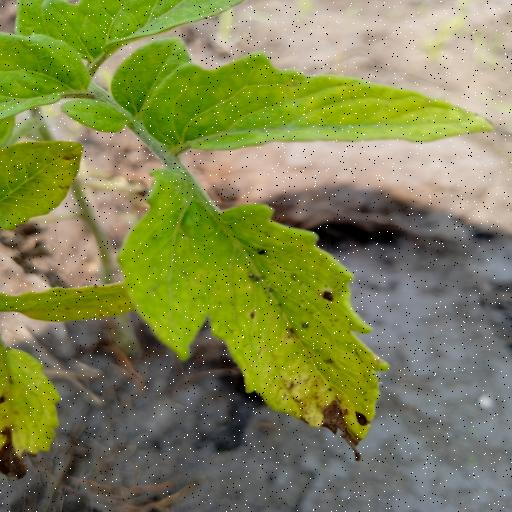Tomato_Brown_Spots: (120, 160, 391, 464), (122, 52, 501, 154)
